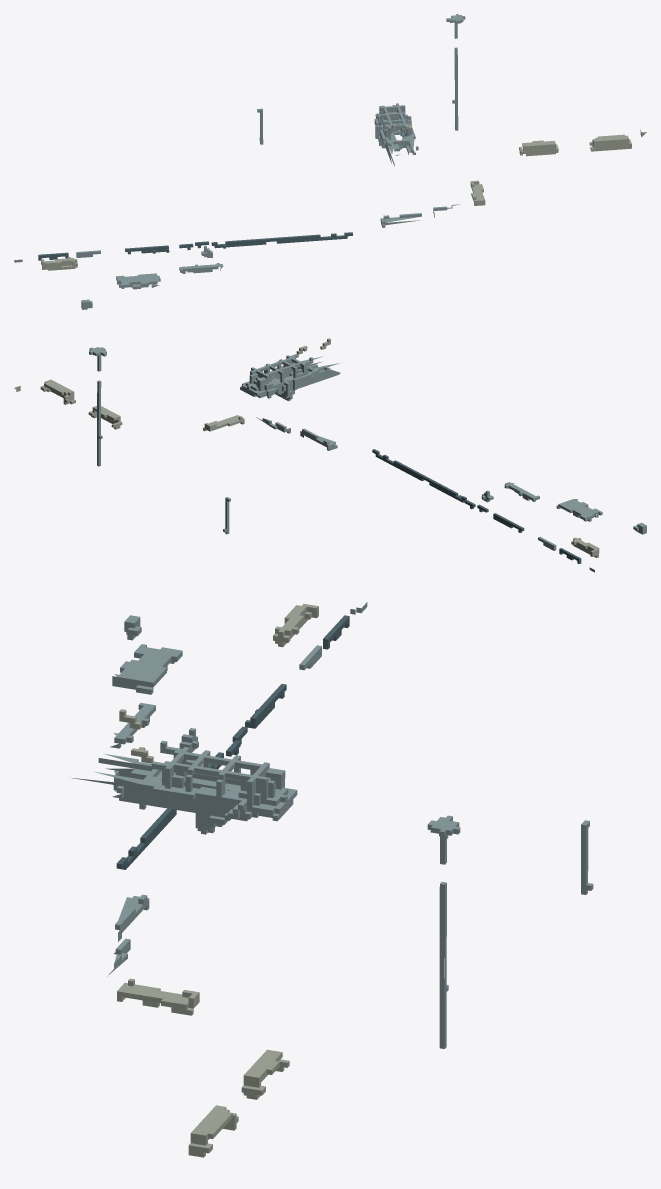
3 views of the same model, one above another, from view 1: azimuth 30°, elevation 25°; view 2: azimuth 150°, elevation 25°; view 3: azimuth 270°, elevation 25° (orthographic). The views are drawn at different scales.
Parts seen in each view (by area): view 1: measured-industrial; view 2: measured-industrial; view 3: measured-industrial.
Part boxes in pixels (x1,y1,x2,y2): measured-industrial: [14, 14, 646, 309]; measured-industrial: [14, 338, 646, 572]; measured-industrial: [70, 602, 593, 1157].
Bounding box in the file's own units: 251 × 49.91 × 95.81.
